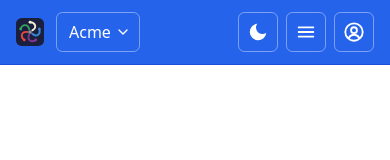
it: opens the nav from the menu button, which says what a press does
The width and height of the screenshot is (390, 160).
Click the button named "Open menu": (306,32) top-left (286, 12), bottom-right (326, 52)
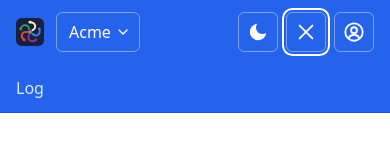
Expected: the button named "Open menu" is expanded, top-left (286, 12), bottom-right (326, 52)
